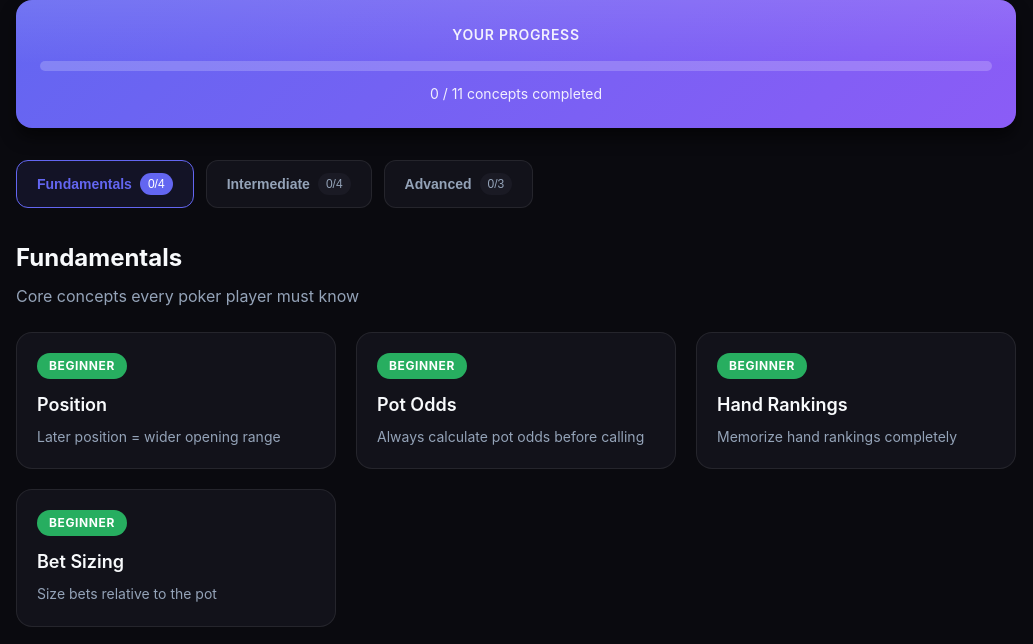
Test: ConceptsLibrary › Concept List View › should switch categories when tab clicked
// Click Intermediate tab
What coordinates should you click on to do the following:
click the button "Intermediate 0/4"
I would click on:
 (289, 184)
Its box is 206,160 -> 372,208.
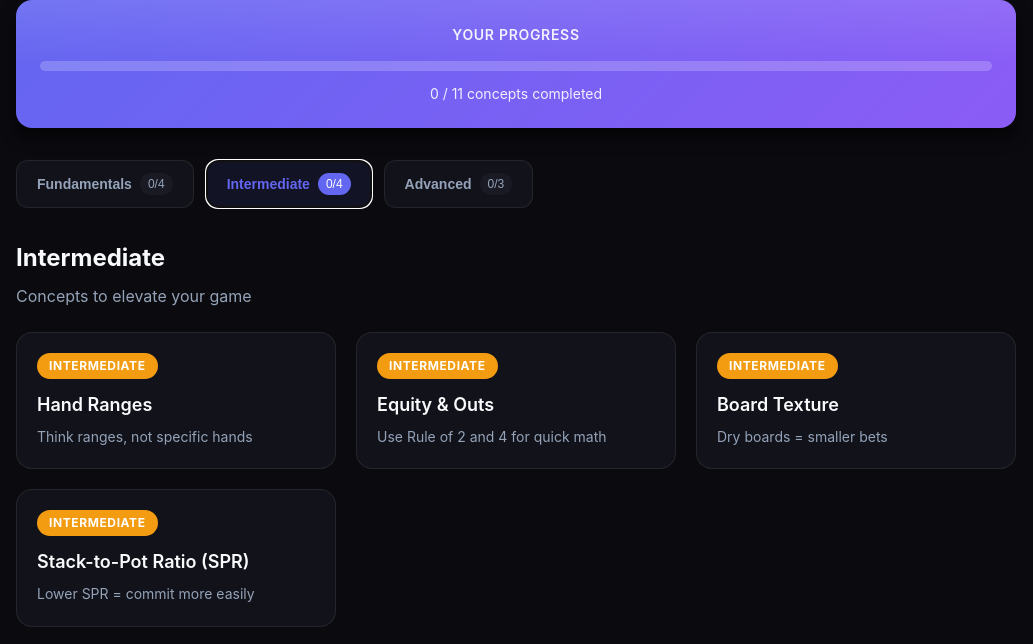
Now the text "Concepts to elevate your game" is shown, box 16,286 -> 252,306
Now the heading "Hand Ranges" is shown, box 37,394 -> 152,415
